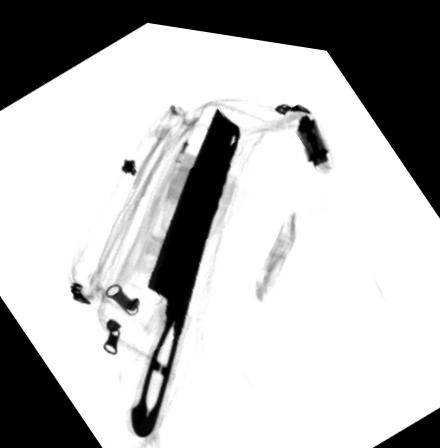Knife: (127, 97, 242, 436)
